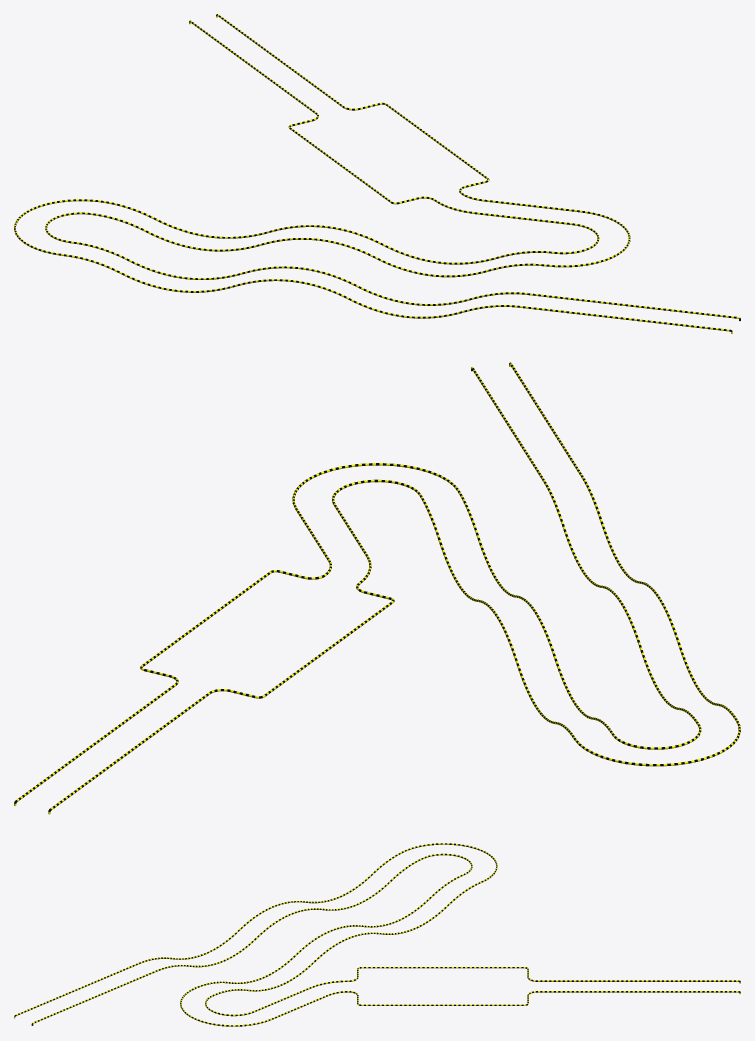
File: rod_32.FBX
3 renders of one model, top to bottom at view 1: azimuth 30°, elevation 25°; view 2: azimuth 150°, elevation 25°; view 3: azimuth 270°, elevation 25°, orthographic. The views are drawn at different scales.
Parts seen in each view (by area): view 1: rod_32; view 2: rod_32; view 3: rod_32.
Part boxes in pixels (x1,y1,x2,y2): rod_32: (14,14,740,333); rod_32: (14,362,740,814); rod_32: (14,843,740,1026).
Bounding box in the file's own units: 6401 × 322 × 10762.
